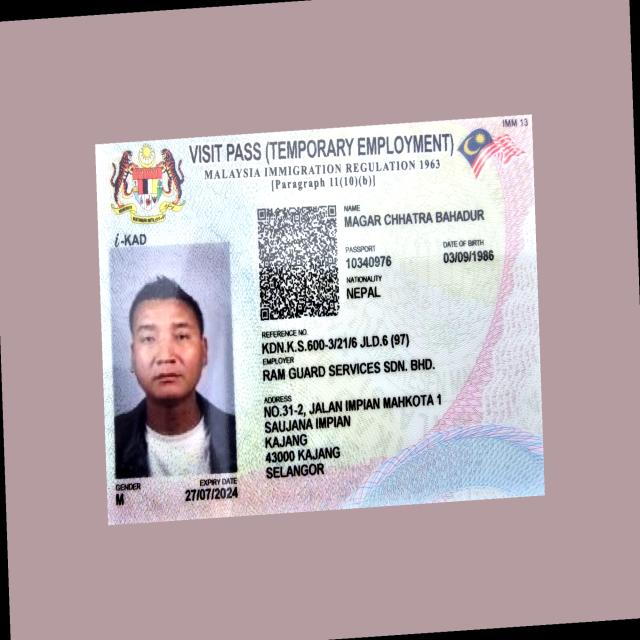ikad-temp: (95, 115, 545, 523)
